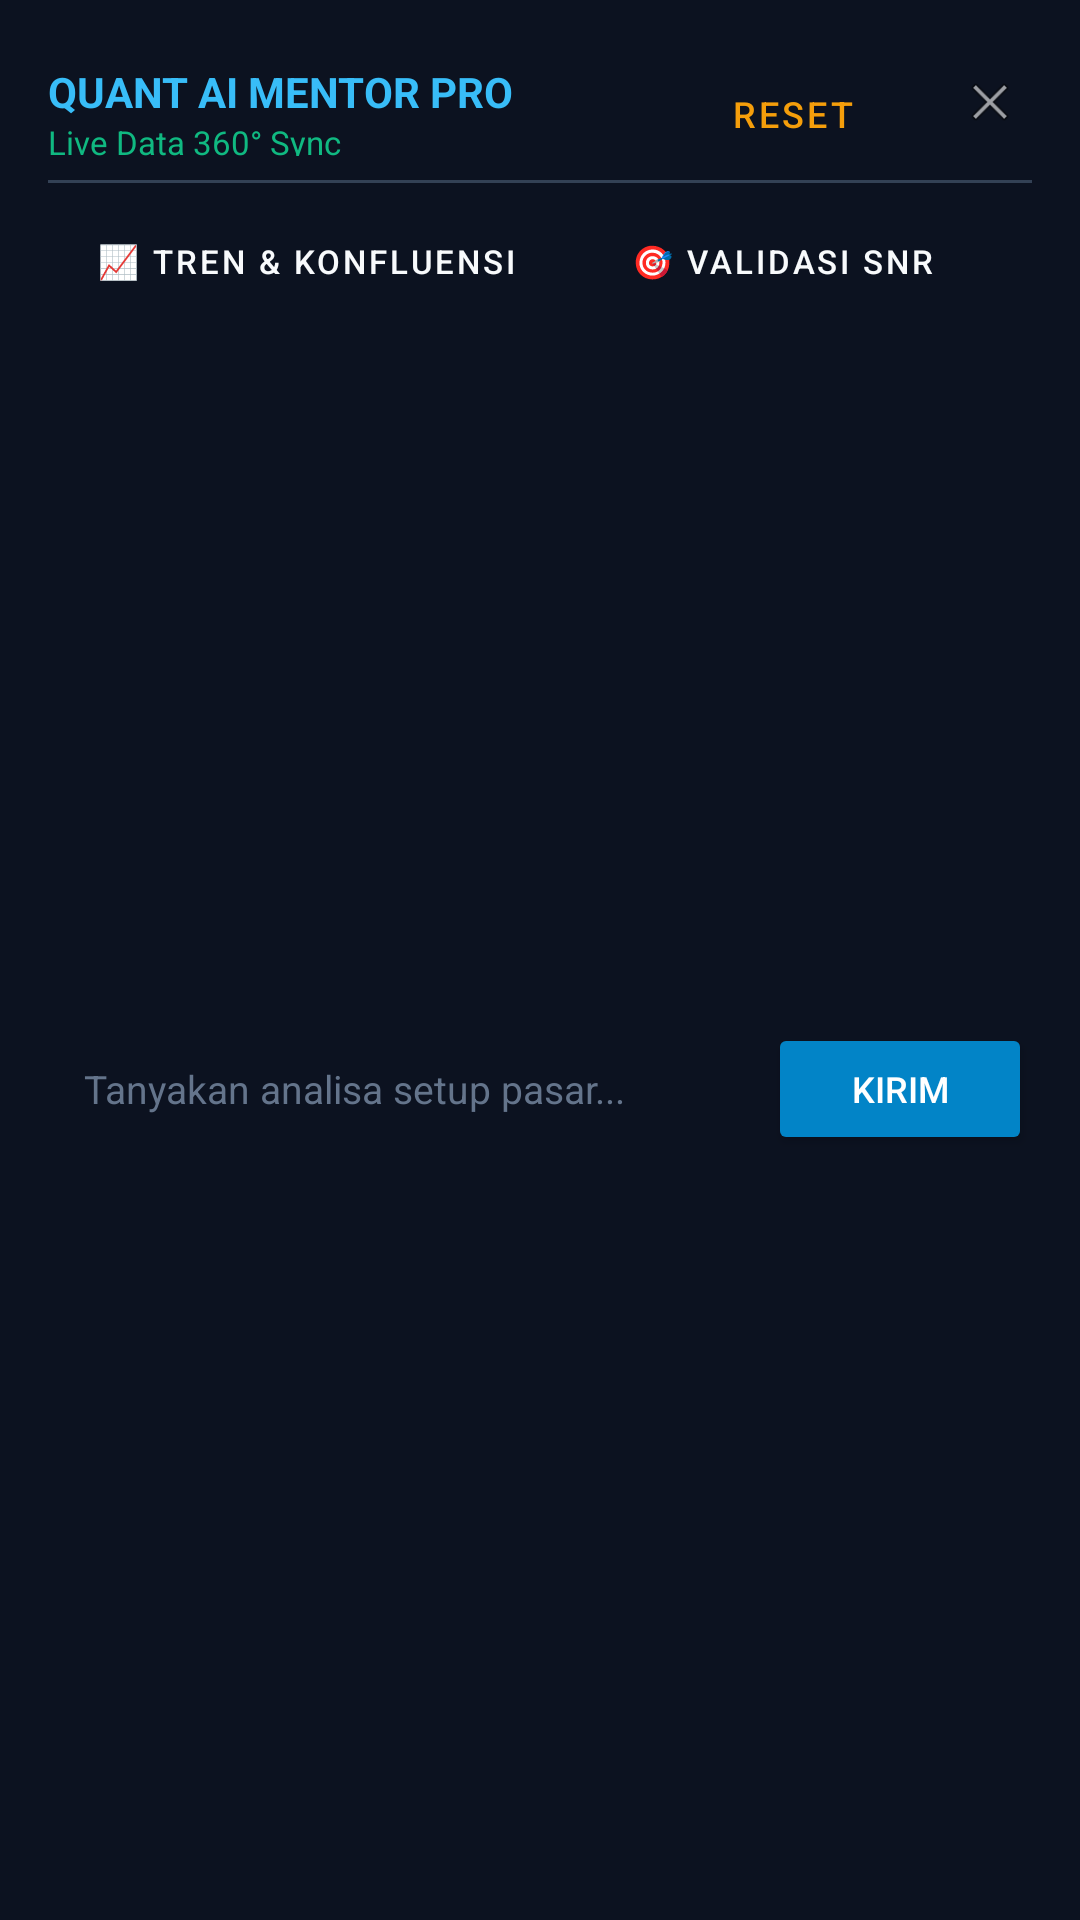

Locate icon controls on the screen. Image size 1080x1920, boxes as (x1, y1, x2, y2).
close clear cancel: (973, 85, 1007, 119)
